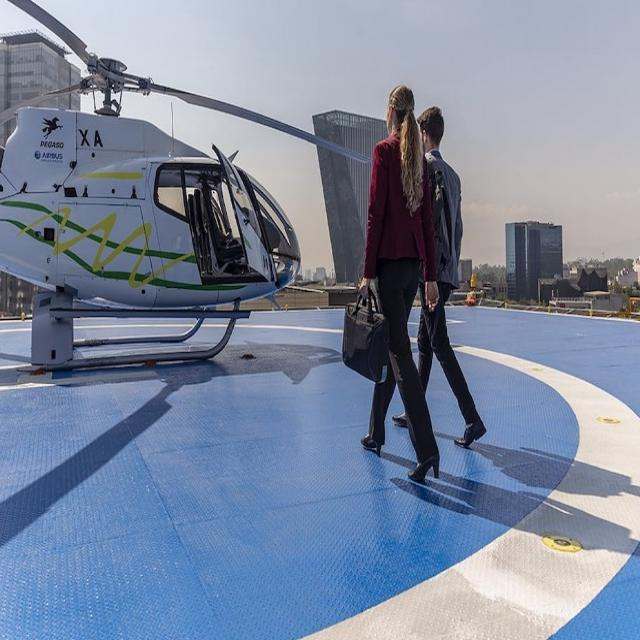helicopter: (1, 1, 371, 385)
